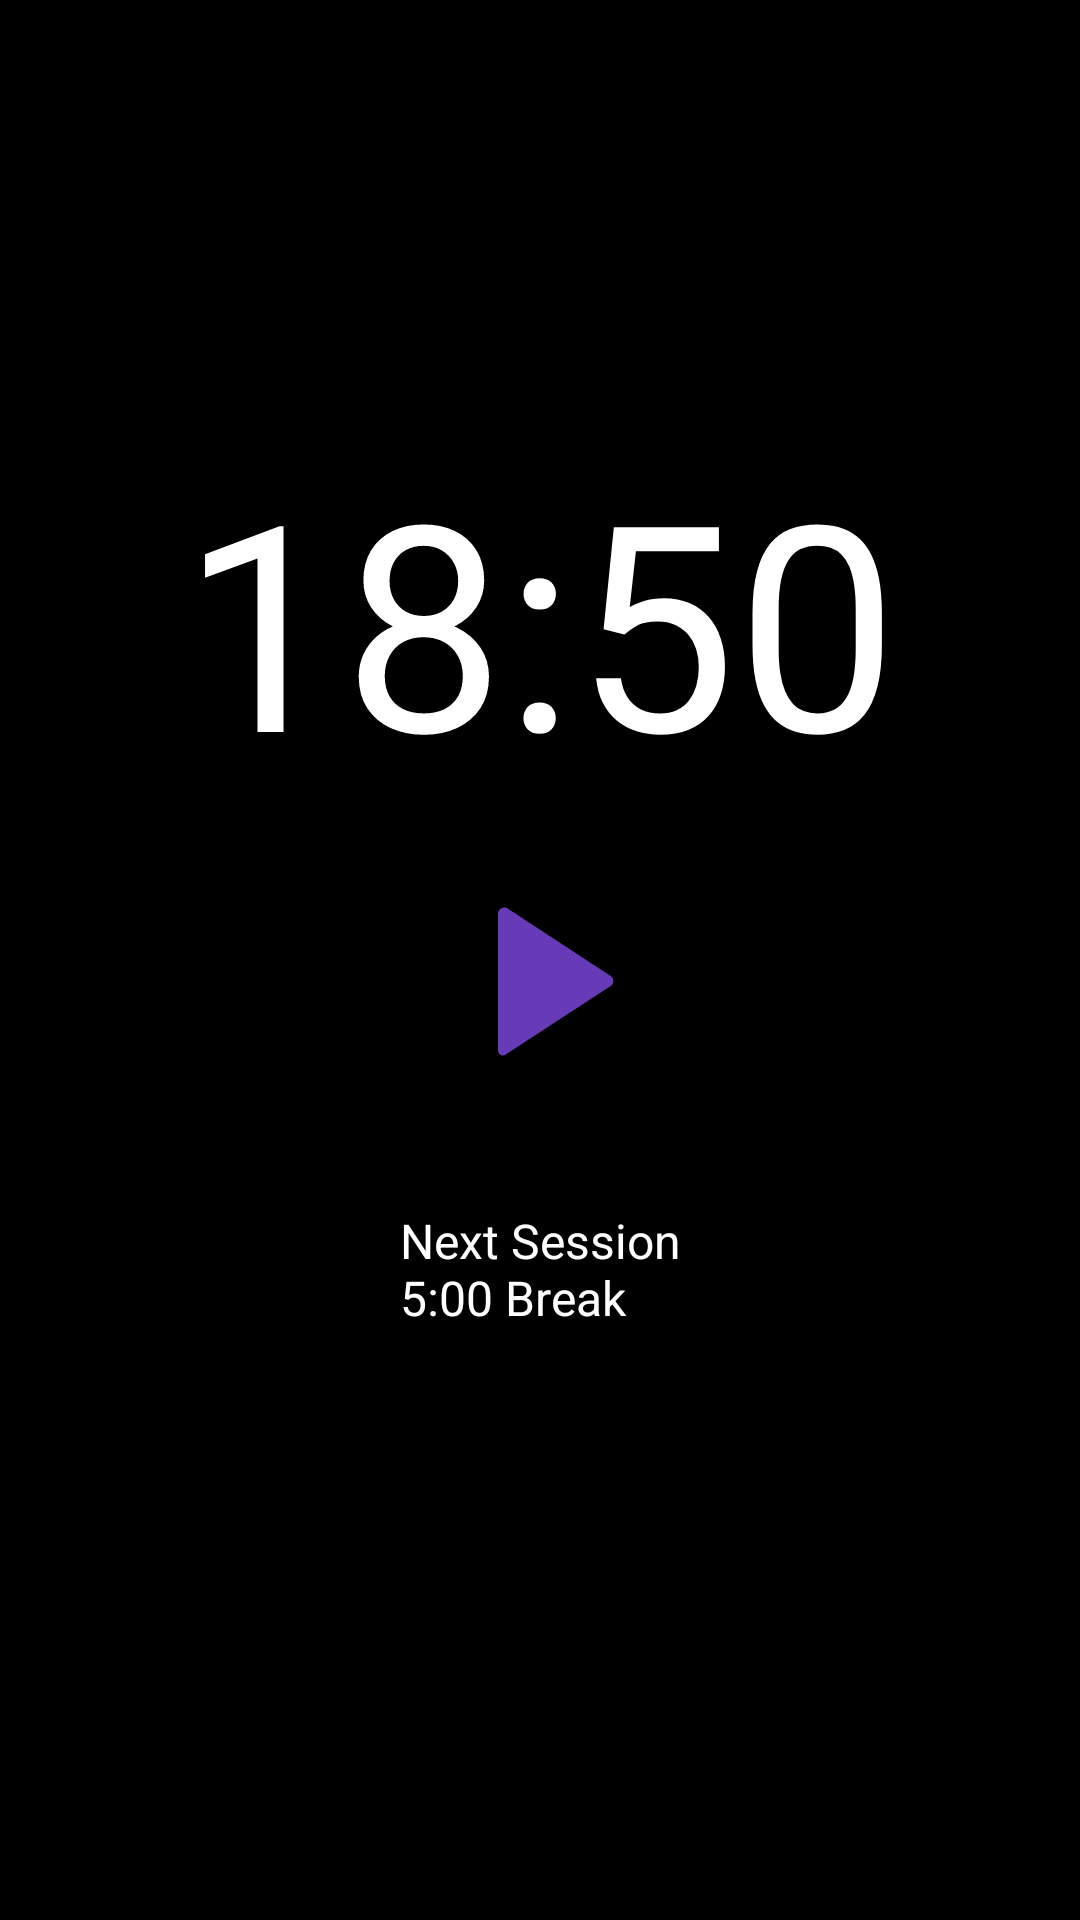

Where icons sit on this 1080px x 1920px app screen, as (x1, y1, x2, y2):
play: (498, 907, 614, 1056)
